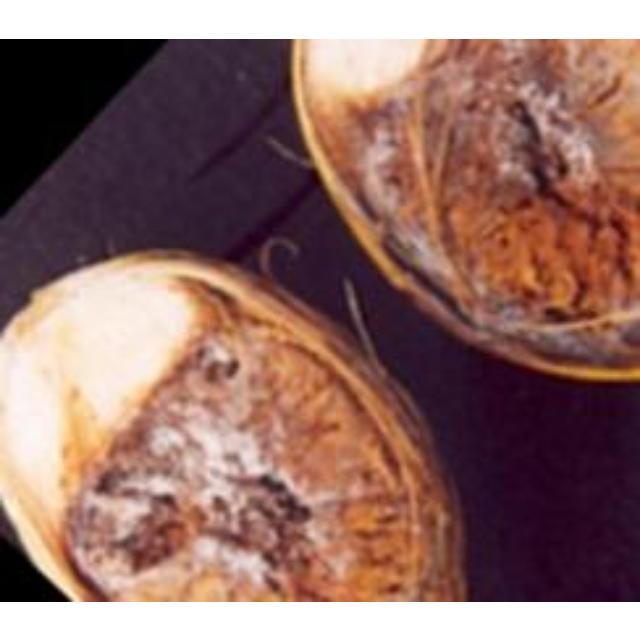damaged: (0, 248, 472, 599), (291, 38, 637, 384)
